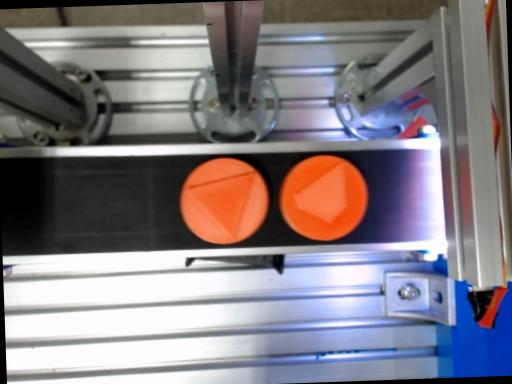Orange_Waper: (180, 158, 268, 244), (279, 155, 366, 240)
